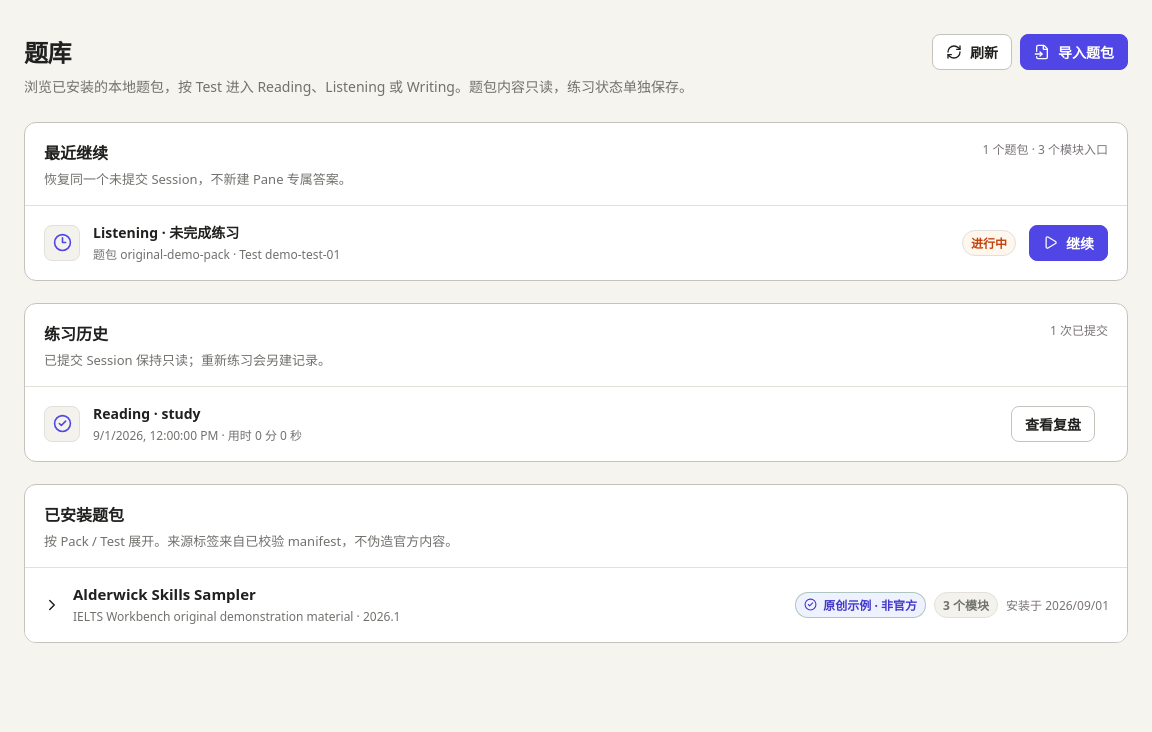
it: LibraryPage › uses persisted summaries for Recent Continue and independent module statuses
The width and height of the screenshot is (1152, 732).
Expected: the text "Listening · 未完成练习" is shown, [93,223,239,242]
Expected: the button "继续" is shown, [1029,225,1108,261]
Click the button "Alderwick Skills Sampler" at (164, 594), box [25,568,1127,642]
(page scrolled)
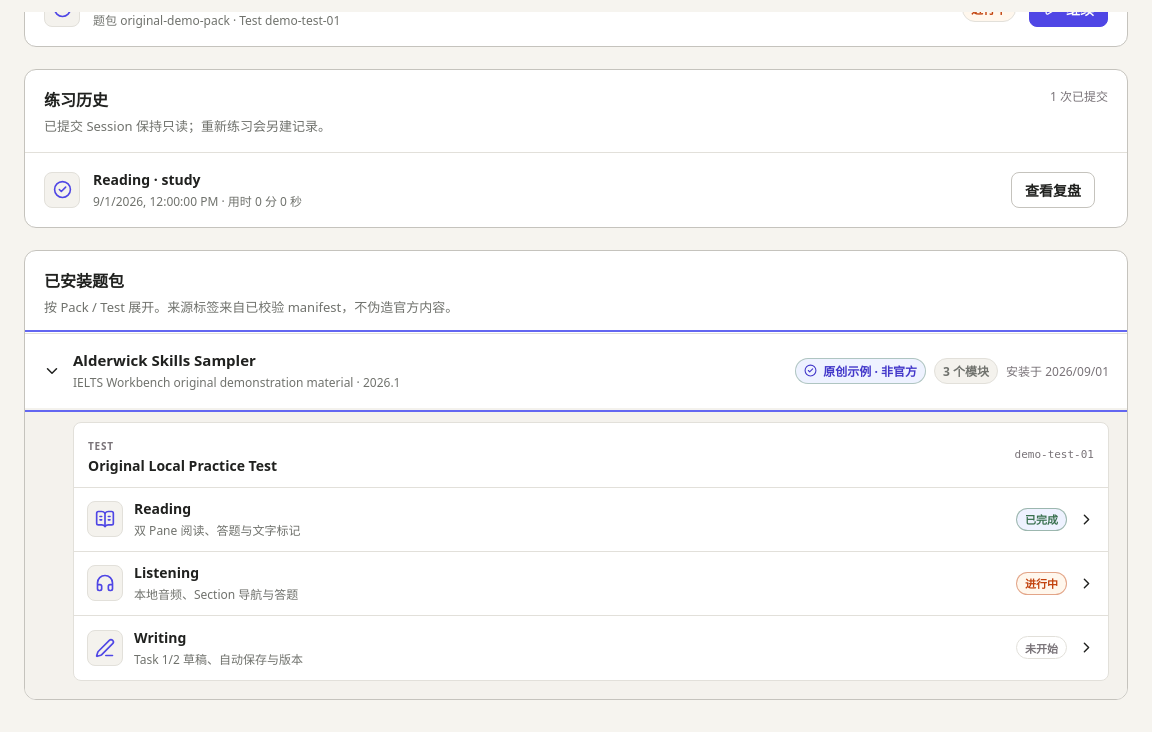
Expected: the button with aria-label "Reading，状态：已完成" is shown, [74,488,1108,552]
Expected: the button with aria-label "Listening，状态：进行中" is shown, [74,552,1108,616]
Expected: the button with aria-label "Writing，状态：未开始" is shown, [74,616,1108,680]
